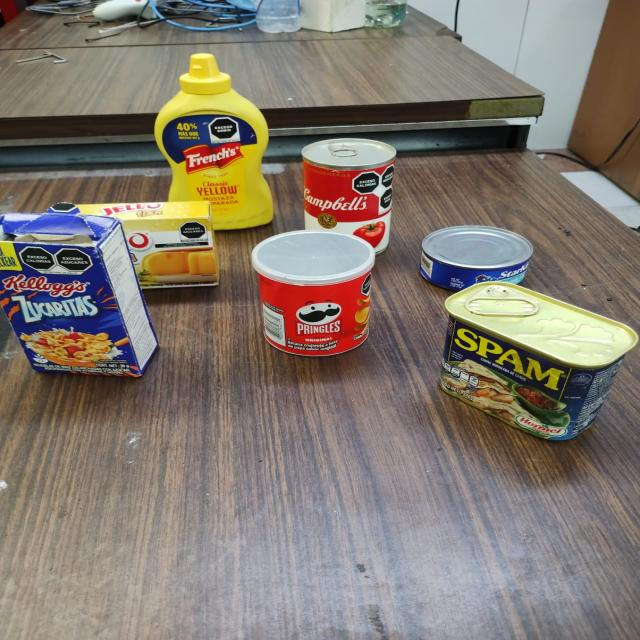can of cream: (301, 135, 400, 257)
can of tuna: (418, 223, 539, 290)
cereal: (0, 202, 163, 378)
chips: (248, 228, 379, 362)
jelly: (54, 200, 225, 295)
mustard: (149, 51, 279, 232)
spam: (441, 279, 639, 445)
